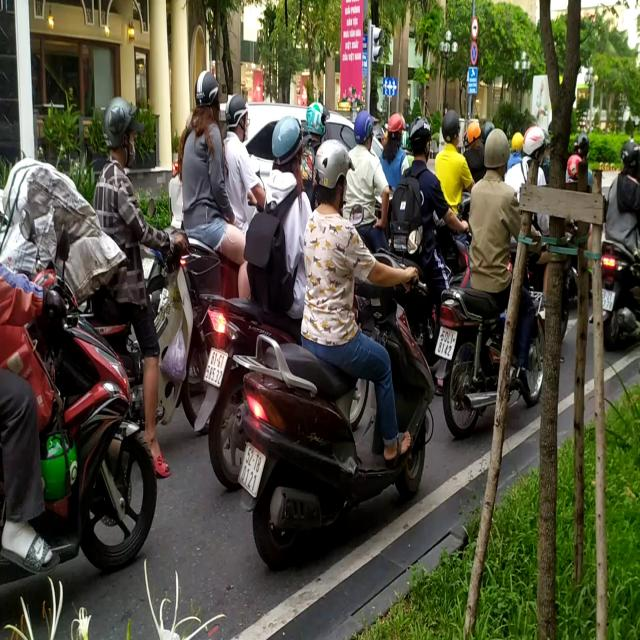bien_trang: (202, 335, 228, 397), (242, 440, 265, 507), (434, 319, 457, 361)
